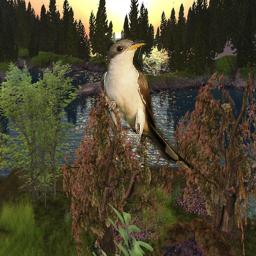Cuckoo: (100, 38, 196, 177)
